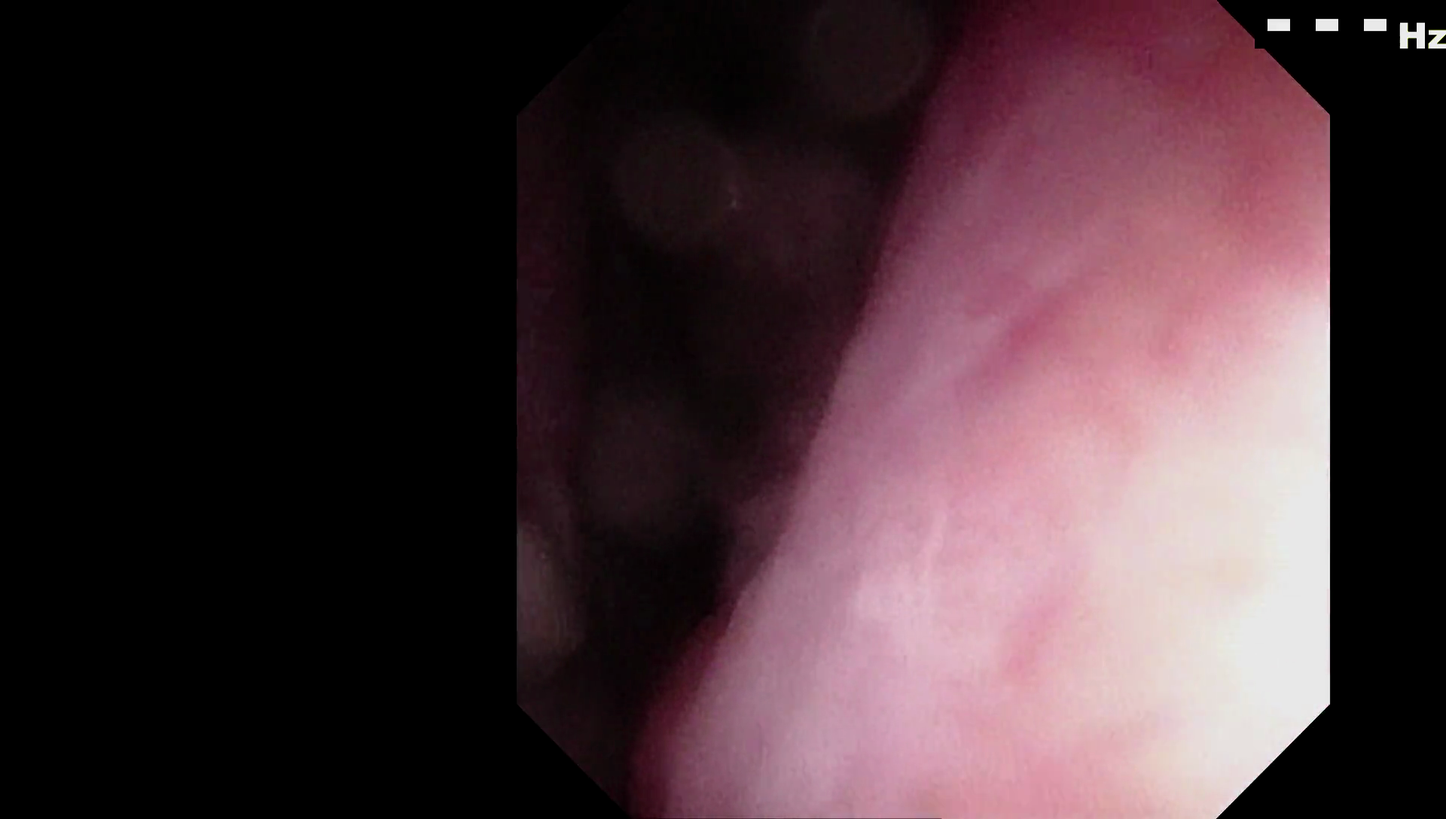close_wall: (900, 264, 1315, 715)
next: (548, 200, 864, 485), (551, 477, 757, 747), (666, 31, 937, 220)
